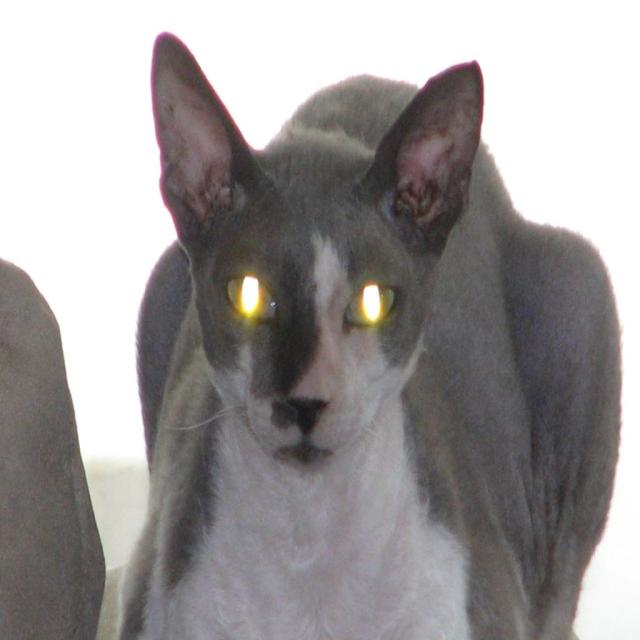Cat: (118, 31, 622, 639)
